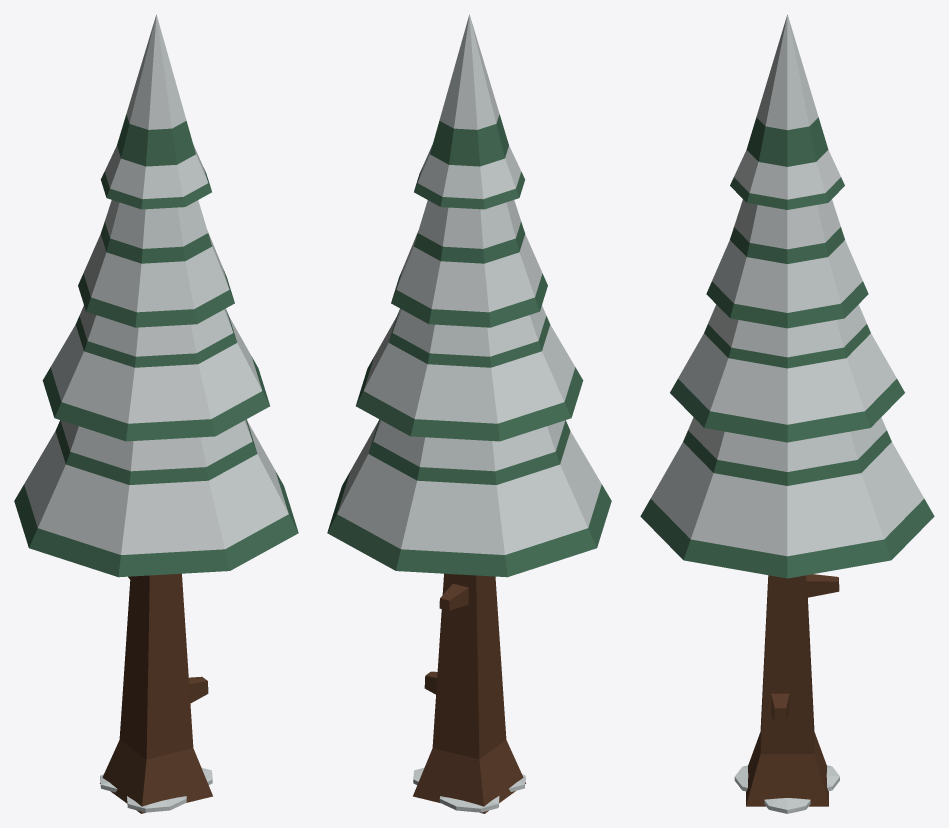
The model's file is tree_pineDefaultA_winter.glb.
3 views of the same model, side by side, from view 1: azimuth 30°, elevation 25°; view 2: azimuth 150°, elevation 25°; view 3: azimuth 270°, elevation 25° (orthographic).
Visible parts, largest first — view 1: geometry; view 2: geometry; view 3: geometry.
Boxes of the visible parts, x1=… form: geometry: x1=14, y1=14, x2=298, y2=813; geometry: x1=327, y1=14, x2=611, y2=813; geometry: x1=640, y1=14, x2=934, y2=813.
Bounding box in the file's own units: 0.532 × 1.55 × 0.532.
